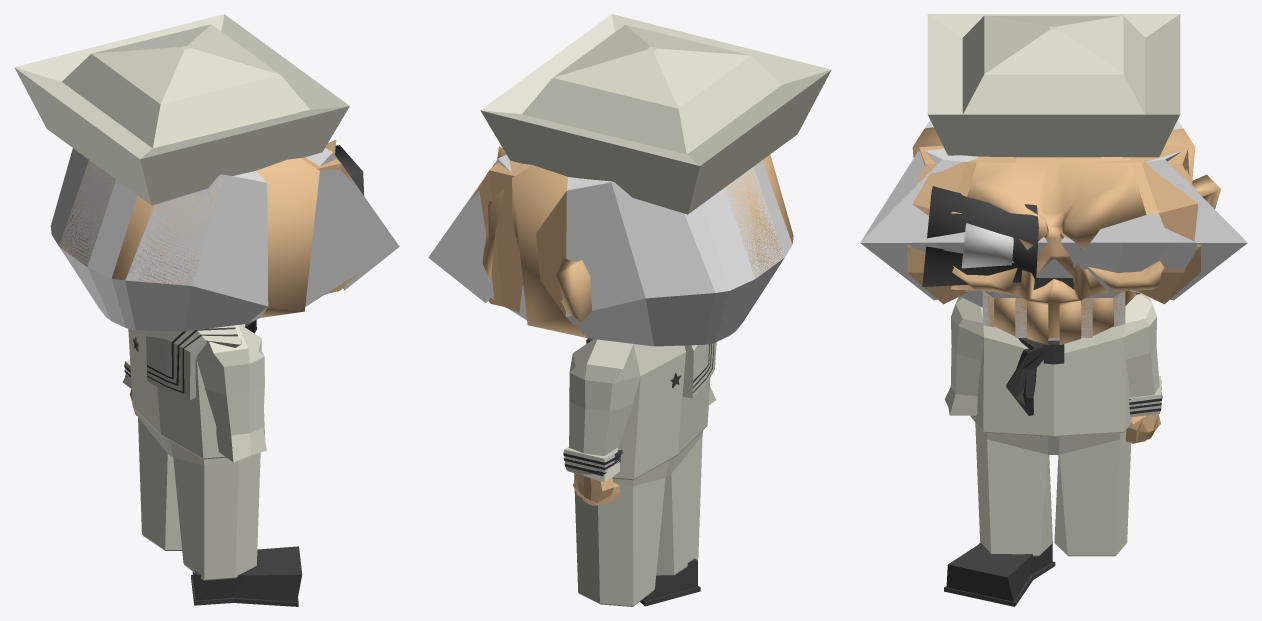
File: Skull.glb
3 renders of one model, left to right at view 1: azimuth 30°, elevation 25°; view 2: azimuth 150°, elevation 25°; view 3: azimuth 270°, elevation 25°, orthographic. The views are drawn at different scales.
Visible parts, largest first — view 1: Cube.004, face, Pants, Cube, face.001, Cube.002, Cube.003, eyes; view 2: Cube.004, face, Cube, Pants, face.001, face.002, Cube.009, Cube.003, Cube.002, Cube.001, Cube.012; view 3: Cube.004, face.001, Cube, Pants, face, face.002, eyes, Cube.002, eyes.001, Cube.007, Cube.001, Cube.012 (+1 smaller).
Part boxes in pixels (x1,y1,x2,y2): Cube.004: (14, 14, 349, 205); face: (50, 148, 399, 331); Pants: (137, 413, 260, 580); Cube: (122, 324, 266, 462); face.001: (59, 140, 336, 317); Cube.002: (191, 546, 302, 606); Cube.003: (146, 324, 245, 400); eyes: (335, 145, 364, 195); Cube.004: (480, 14, 831, 214); face: (428, 154, 792, 346); Cube: (567, 339, 715, 482); Pants: (574, 431, 702, 606); face.001: (482, 146, 793, 338); face.002: (471, 160, 566, 316); Cube.009: (556, 258, 592, 322); Cube.003: (682, 342, 716, 398); Cube.002: (640, 558, 700, 606); Cube.001: (573, 473, 619, 505); Cube.012: (563, 447, 620, 474); Cube.004: (927, 14, 1180, 157); face.001: (912, 127, 1195, 344); Cube: (944, 294, 1162, 436); Pants: (975, 423, 1131, 556); face: (860, 120, 1247, 340); face.002: (907, 145, 1200, 340); eyes: (922, 186, 1038, 286); Cube.002: (944, 542, 1055, 606); eyes.001: (961, 223, 1013, 268); Cube.007: (1006, 345, 1043, 415); Cube.001: (1125, 414, 1160, 443); Cube.012: (1129, 376, 1162, 416).
Size of the model in its own units: 1.92 by 3.78 by 2.48.
